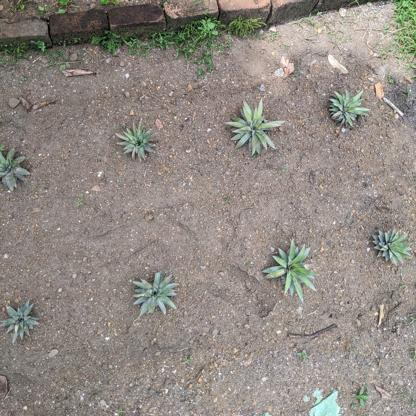pineapple: (261, 234, 318, 306), (224, 97, 288, 157), (129, 267, 183, 318), (112, 115, 160, 163), (325, 83, 372, 132), (368, 224, 416, 271), (1, 296, 41, 346), (1, 143, 36, 192)
